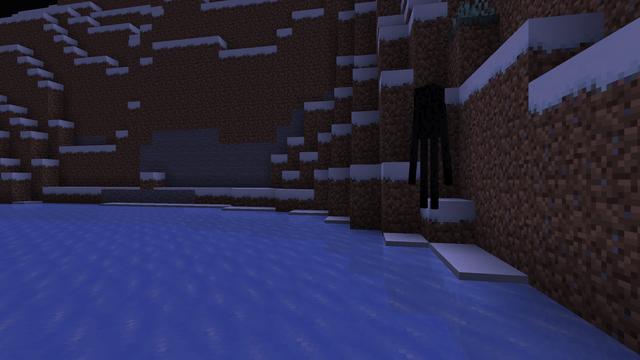endermens: (413, 78, 445, 206)
